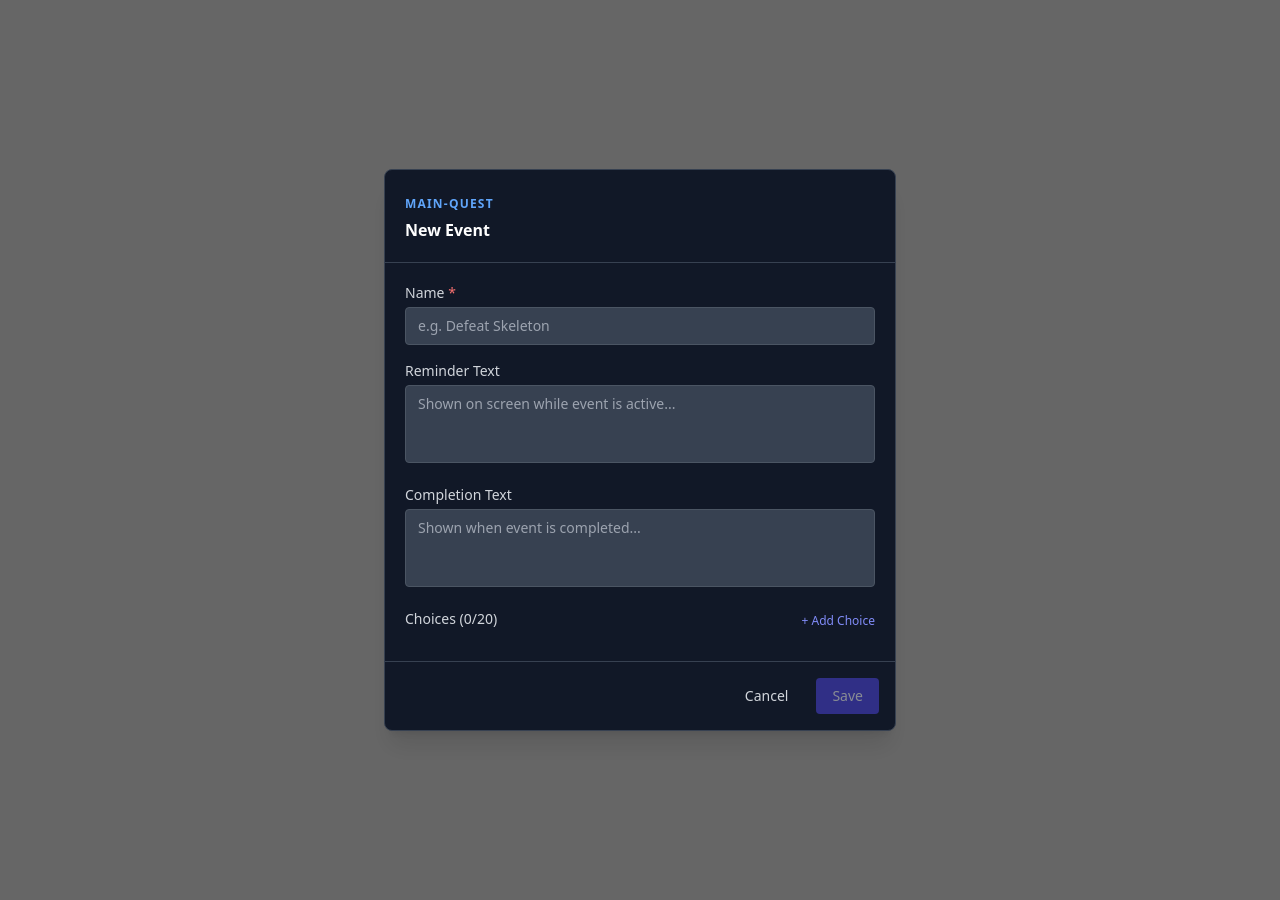
Test: EventDetailPopup › can remove a choice row
Click the button "+ Add Choice".
click(838, 621)  # box [802,613,875,629]
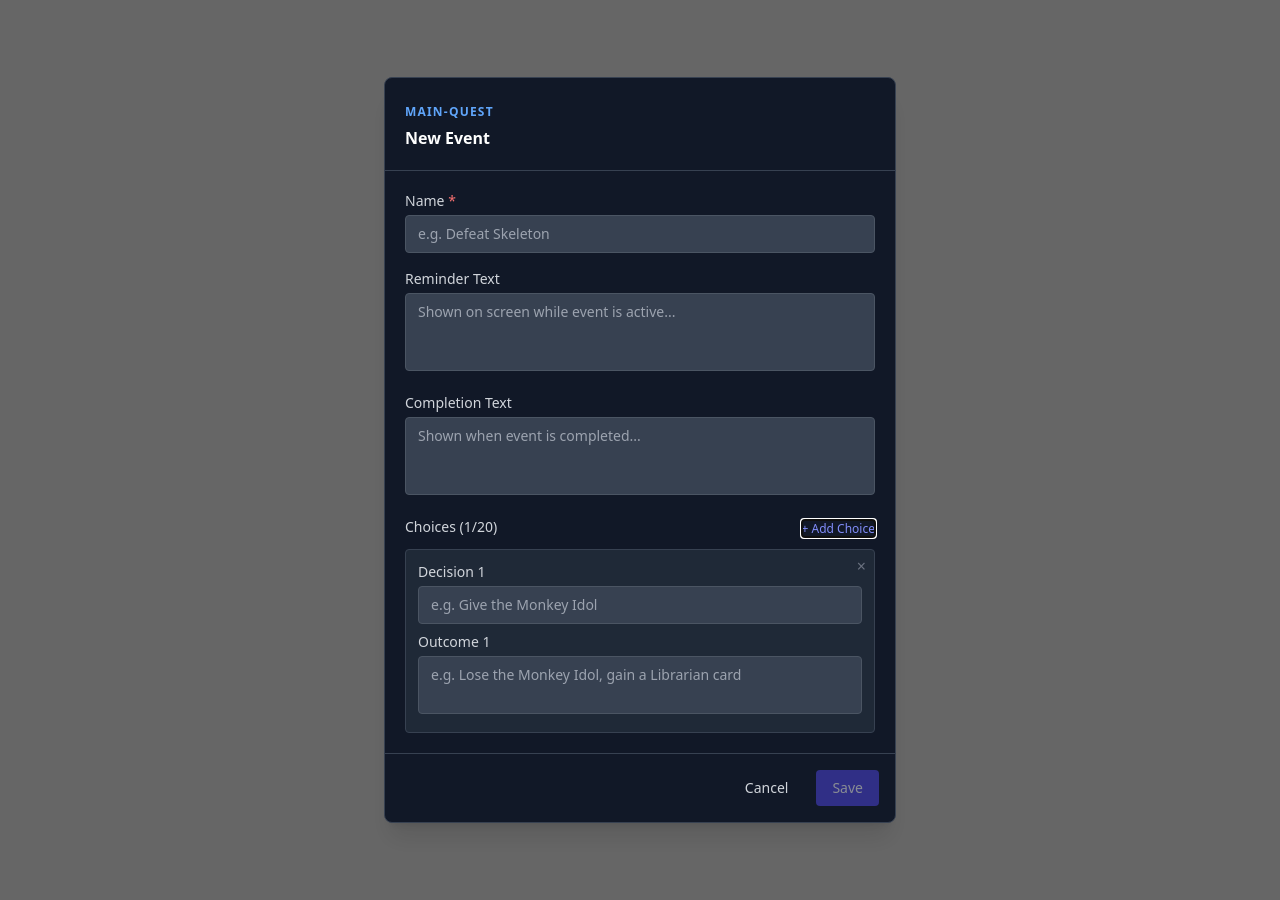
Expected: the field labelled "Decision 1" is shown, [418,586,862,624]
Click the button named "remove choice 1".
click(861, 566)  # box [857,558,866,574]
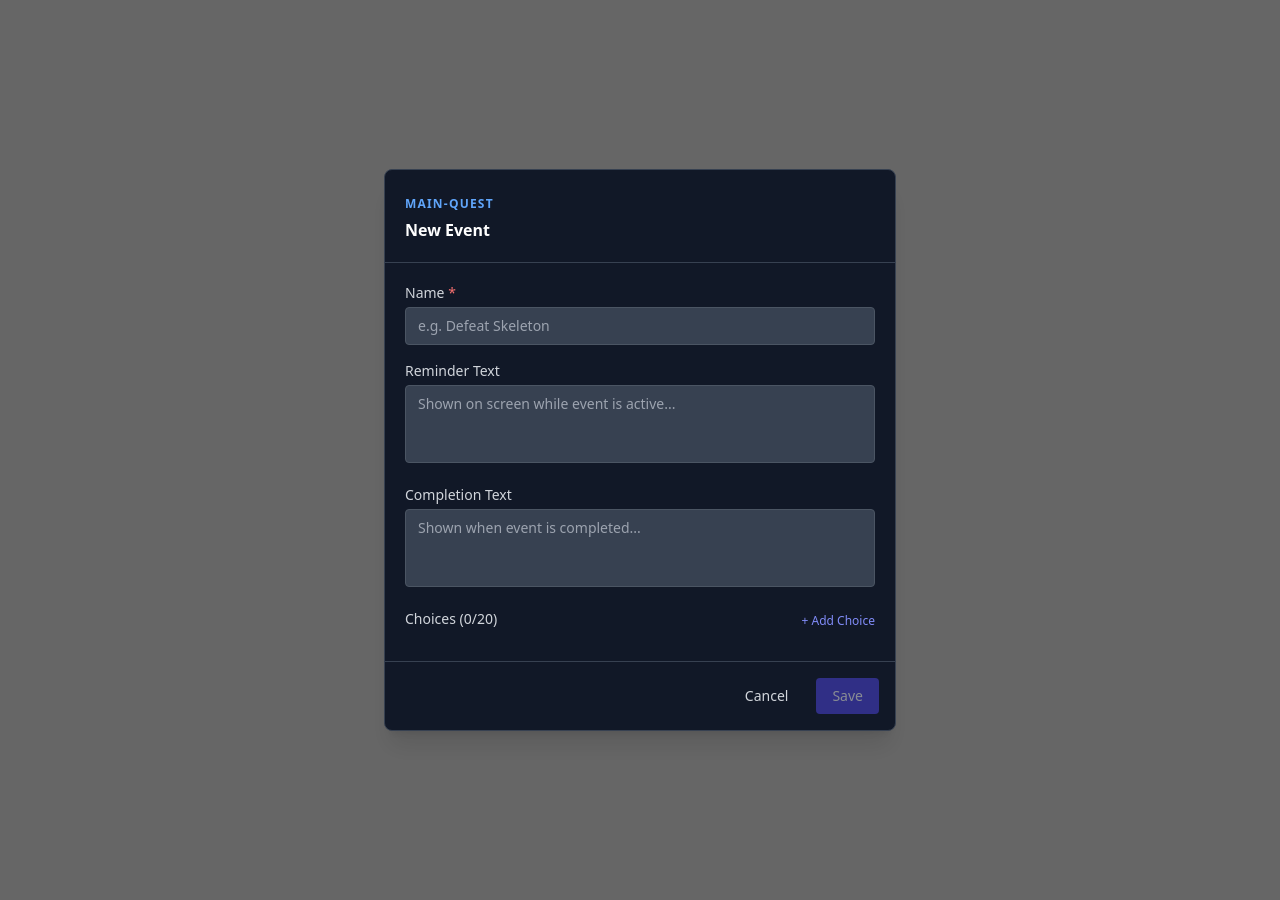
Expected: the label labelled "Decision 1" is gone
